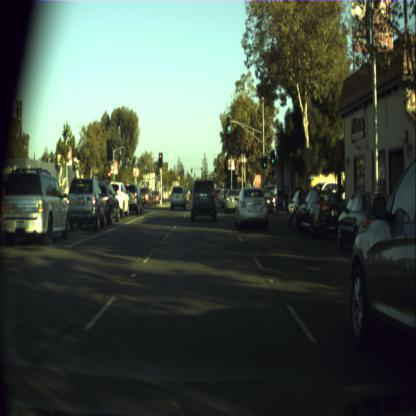Green: (226, 114, 231, 133), (262, 154, 267, 168), (270, 150, 274, 164), (200, 167, 202, 172)
Red: (190, 166, 192, 172)
RedLeft: (158, 152, 162, 168), (108, 172, 110, 183)
